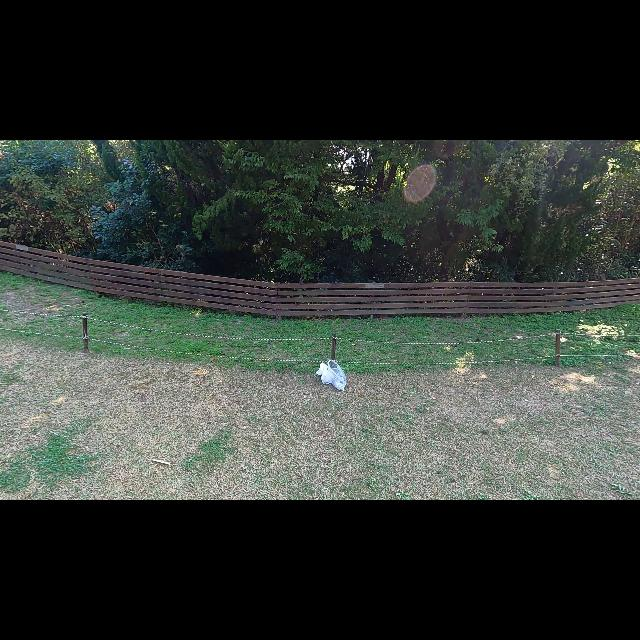trash: (326, 358, 348, 392), (316, 360, 334, 384)
